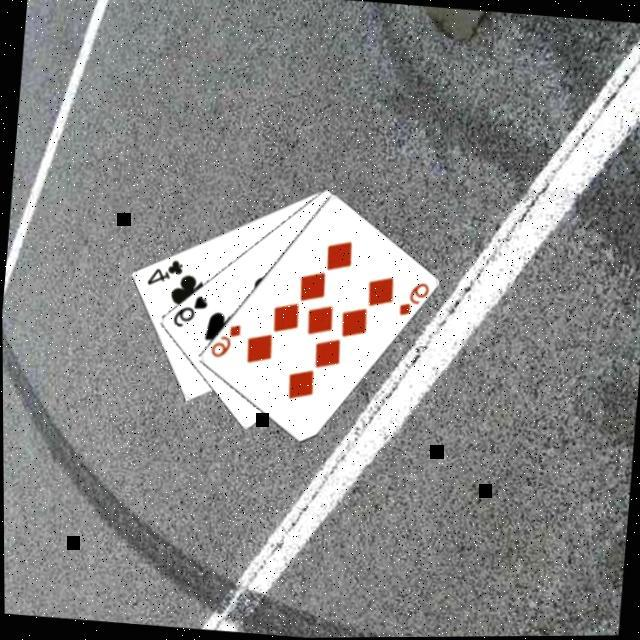4C: (141, 252, 184, 288)
6S: (167, 289, 209, 330)
9D: (392, 275, 430, 318), (205, 317, 242, 360)
